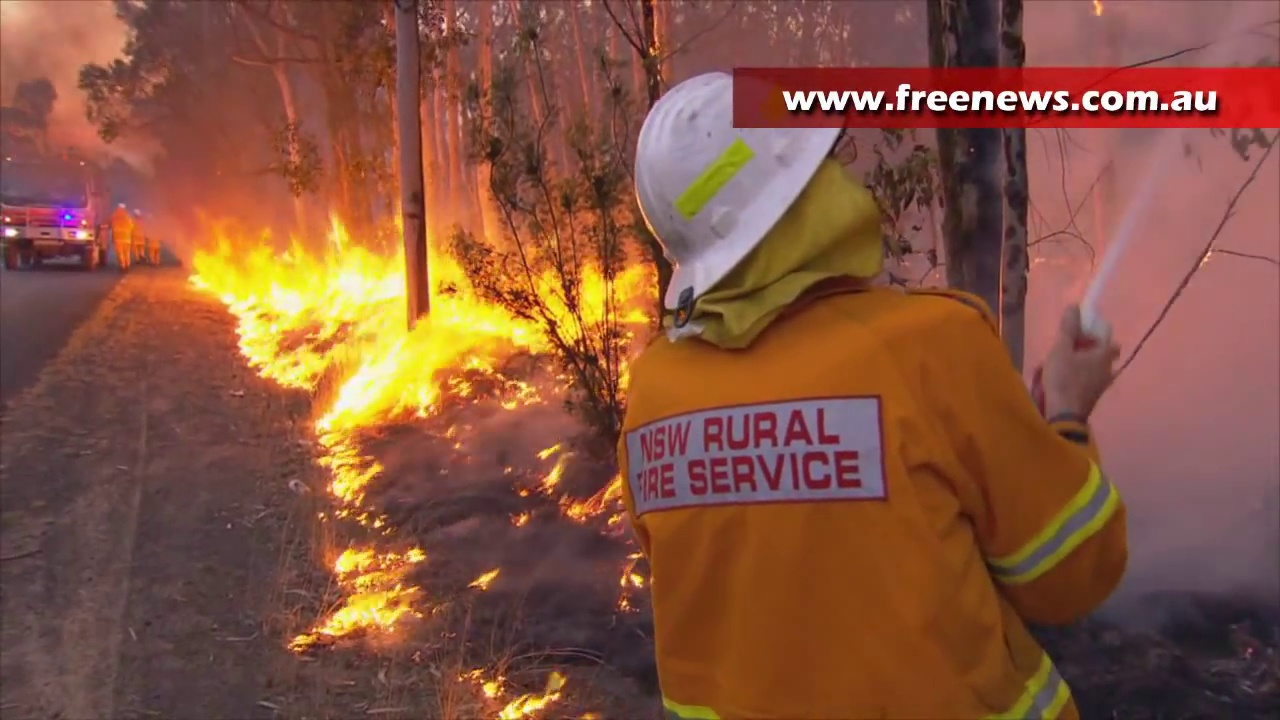fire: (195, 238, 494, 402), (292, 548, 425, 650), (307, 404, 383, 507), (536, 447, 630, 521), (541, 266, 656, 323), (474, 669, 563, 720)
